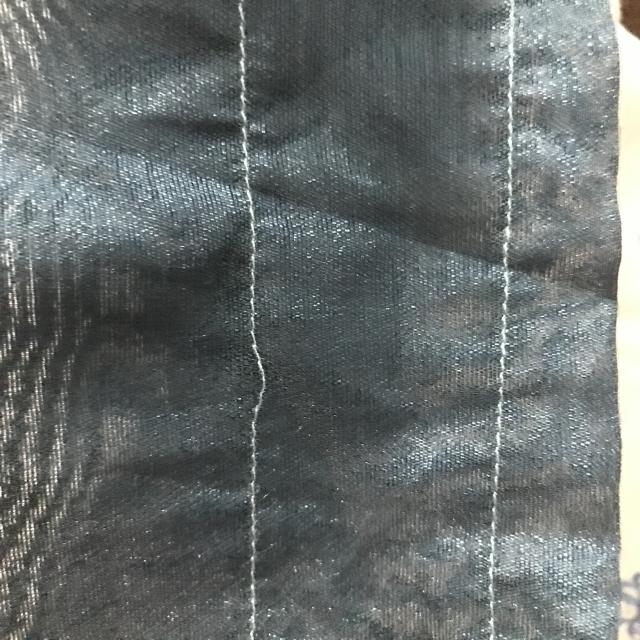good: (219, 205, 292, 298)
skip: (197, 319, 299, 429)
